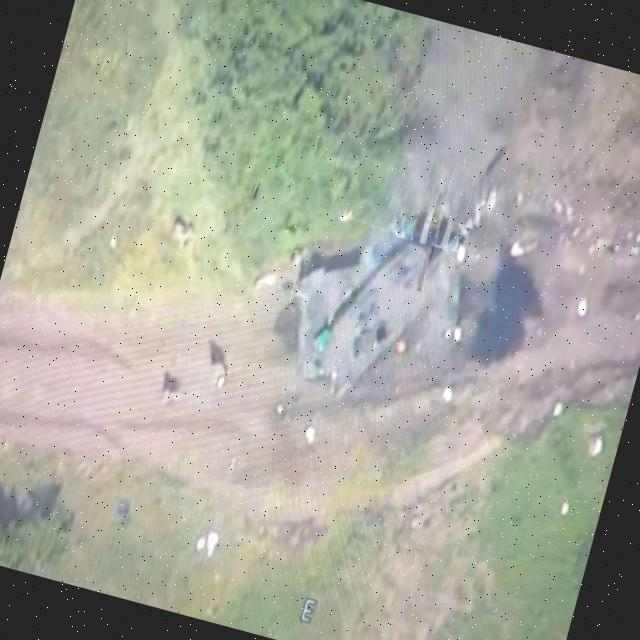MBT: (270, 142, 502, 423)
